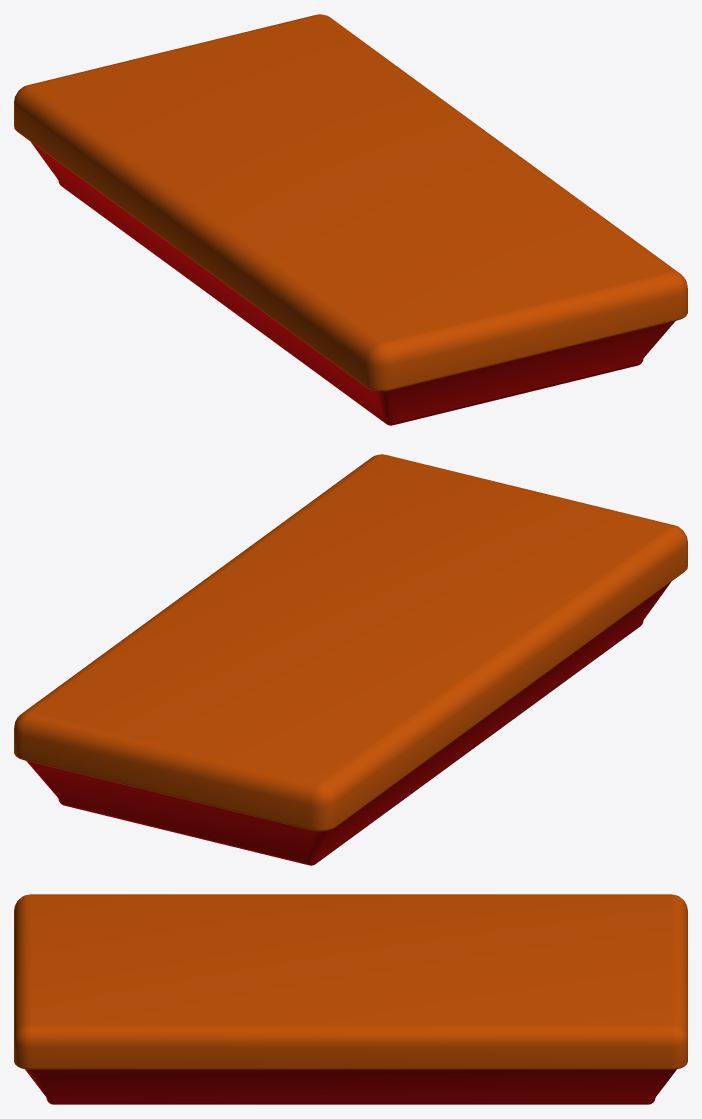
File: basicLong.fbx
The picture shows the model from 3 angles, top to bottom: view 1: azimuth 30°, elevation 25°; view 2: azimuth 150°, elevation 25°; view 3: azimuth 270°, elevation 25°; orthographic projection. The views are drawn at different scales.
Parts seen in each view (by area): view 1: basicLong; view 2: basicLong; view 3: basicLong.
Boxes of the visible parts, bbox=[...] form: basicLong: bbox=[14, 14, 687, 425]; basicLong: bbox=[14, 454, 687, 865]; basicLong: bbox=[14, 894, 687, 1104].
Size of the model in its own units: 1 by 0.2906 by 1.99.
